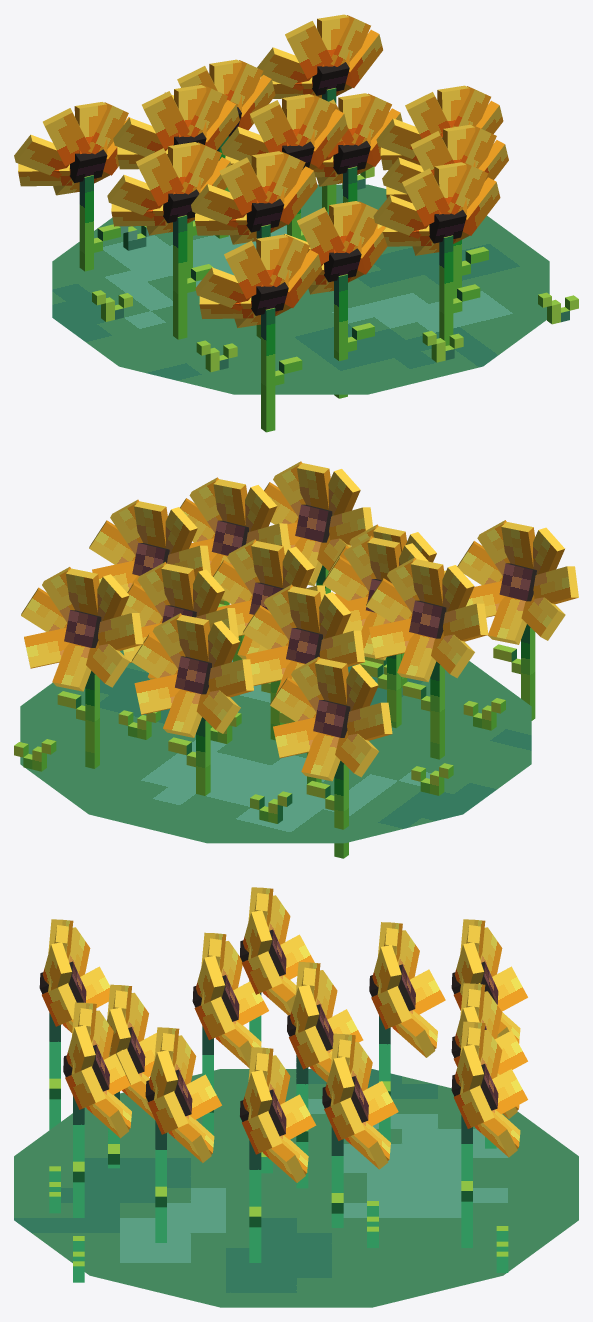
3 renders of one model, top to bottom at view 1: azimuth 30°, elevation 25°; view 2: azimuth 150°, elevation 25°; view 3: azimuth 270°, elevation 25°, orthographic. The views are drawn at different scales.
Visible parts, largest first — view 1: petalo (×63), base suelo, rama (×5), base (×8); view 2: petalo (×79), base suelo, base (×10), rama (×6); view 3: base suelo, petalo (×55), rama (×9), base (×10).
Boxes of the visible parts, box(x1,y1,x2,y2) form: petalo (×63): box(14, 14, 508, 318); base suelo: box(52, 184, 549, 394); rama (×5): box(79, 175, 453, 432); base (×8): box(70, 62, 466, 315); petalo (×79): box(21, 461, 578, 781); base suelo: box(20, 650, 531, 843); base (×10): box(64, 504, 536, 737); rama (×6): box(85, 624, 535, 858); base suelo: box(14, 1069, 578, 1307); petalo (×55): box(42, 895, 527, 1182); rama (×9): box(49, 1013, 472, 1262); base (×10): box(39, 929, 498, 1136).
Bounding box in the file's own units: 3 × 1.51 × 3.
Materials: 1 (1 with a texture image).
